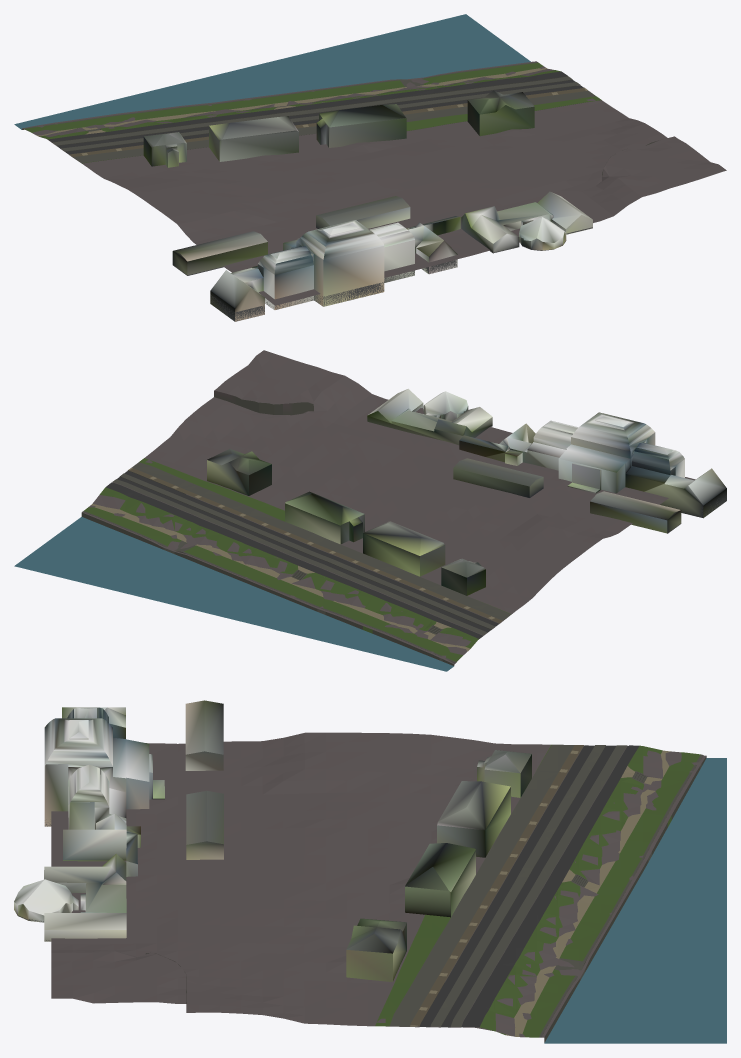
The picture shows the model from 3 angles, top to bottom: view 1: azimuth 30°, elevation 25°; view 2: azimuth 150°, elevation 25°; view 3: azimuth 270°, elevation 25°; orthographic projection. The views are drawn at different scales.
Visible parts, largest first — view 1: c_m03_m06; view 2: c_m03_m06; view 3: c_m03_m06.
Part boxes in pixels (x1,y1,x2,y2): c_m03_m06: [14, 14, 726, 321]; c_m03_m06: [14, 350, 726, 671]; c_m03_m06: [14, 700, 726, 1043].
Bounding box in the file's own units: 138 × 16.93 × 135.
